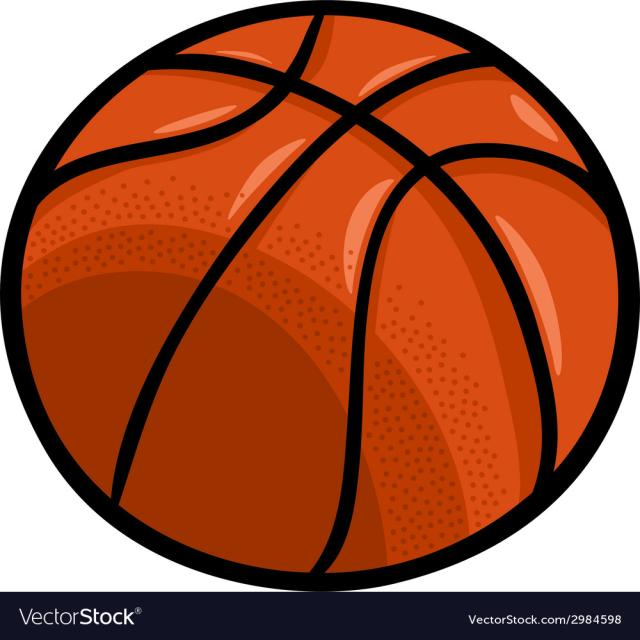non_orange: (16, 0, 607, 574)
